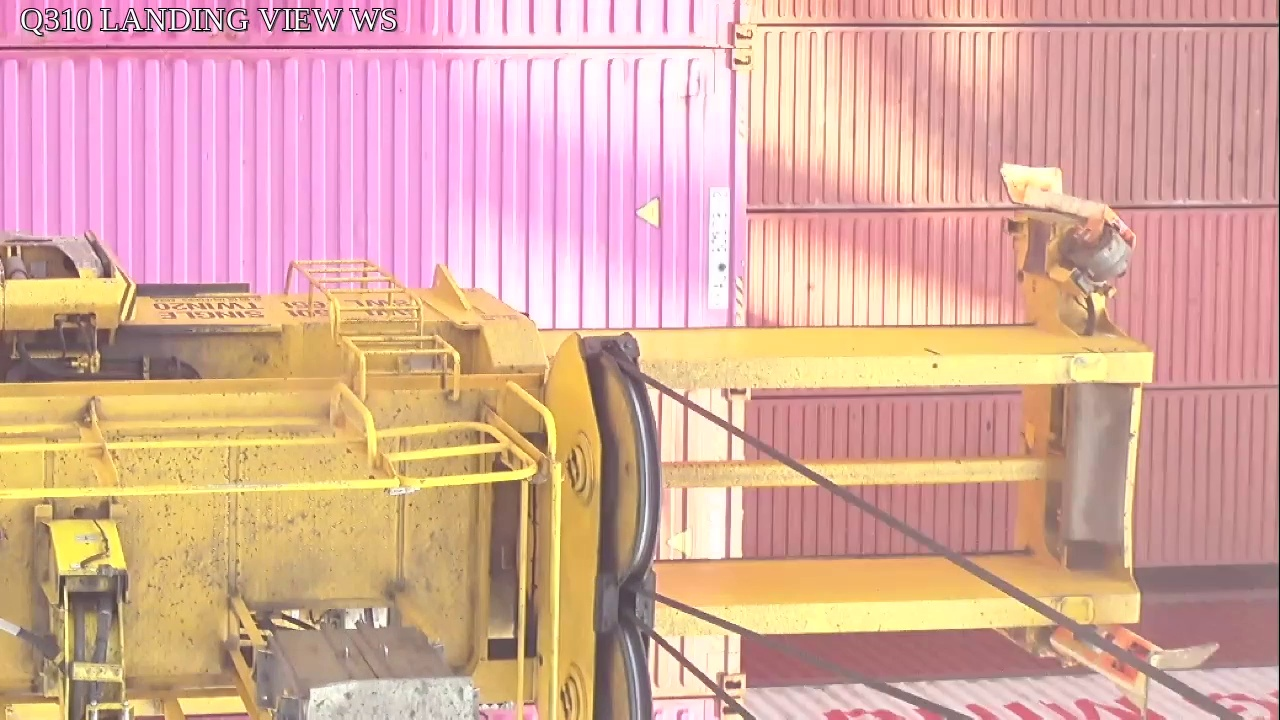right: (544, 334, 659, 720)
